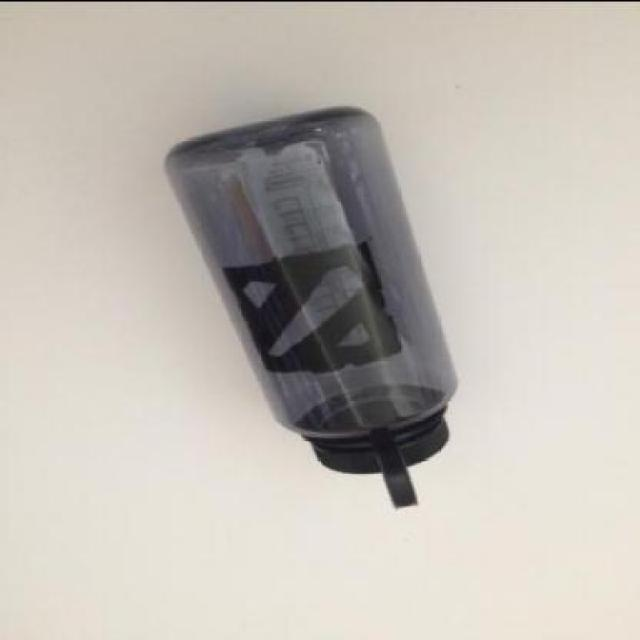PLASTIC: (168, 106, 458, 508), (297, 385, 454, 506)
